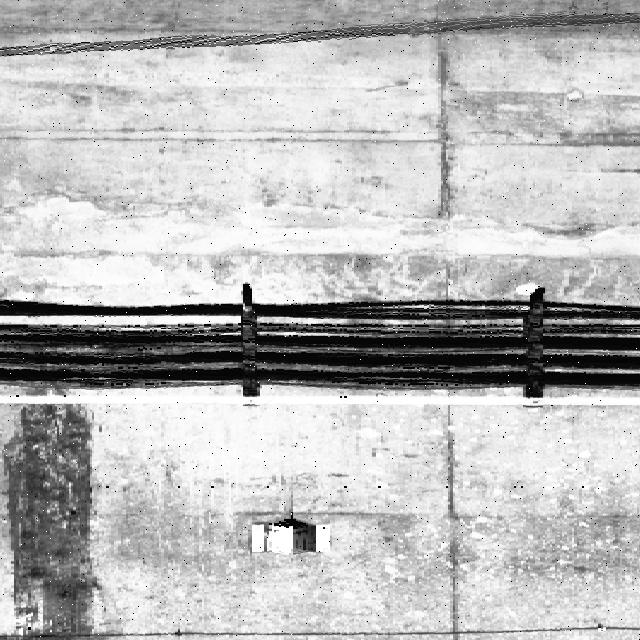leakage: (0, 404, 94, 640)
